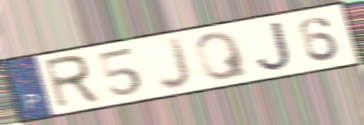5: (95, 44, 146, 98)
6: (297, 16, 342, 62)
J: (254, 18, 295, 74), (156, 35, 195, 92)
Q: (192, 29, 253, 82)
R: (40, 52, 104, 113)
